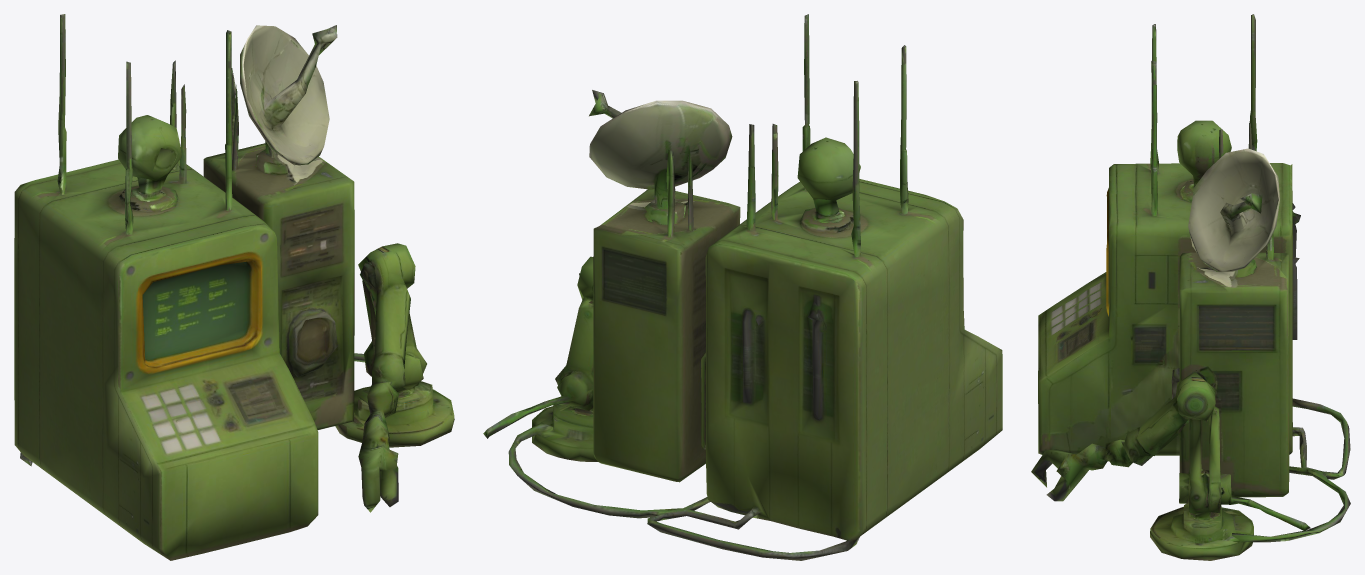
File: Robotic_Control_Stati_0408235746_texture.glb
3 views of the same model, side by side, from view 1: azimuth 30°, elevation 25°; view 2: azimuth 150°, elevation 25°; view 3: azimuth 270°, elevation 25° (orthographic). The views are drawn at different scales.
Visible parts, largest first — view 1: Mesh1; view 2: Mesh1; view 3: Mesh1.
Part boxes in pixels (x1,y1,x2,y2): Mesh1: [14, 14, 454, 560]; Mesh1: [483, 14, 1002, 560]; Mesh1: [1031, 14, 1350, 560].
Bounding box in the file's own units: 1.73 × 1.99 × 1.46.
1 material, 1 textured.
